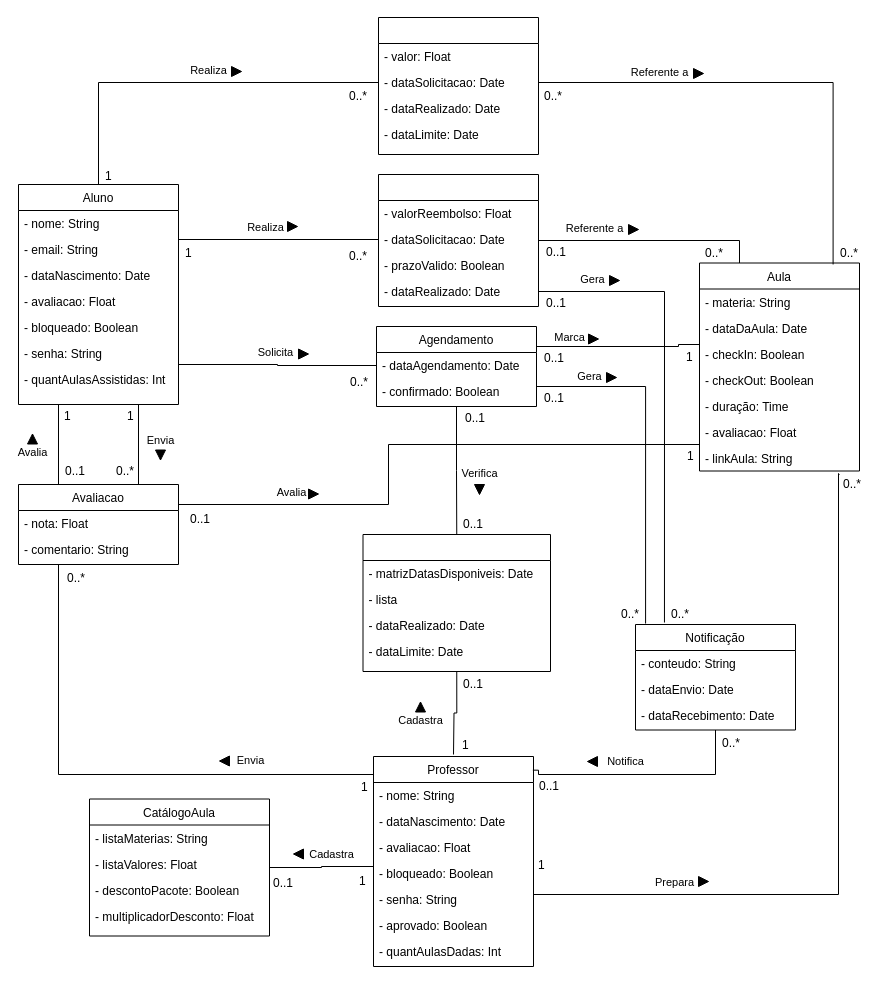
Some shapes in this 879 by 985 pixel diagram are drawn without their labels. Here are the shapes that lost their labels. From the top down, the box of each, then its label:
(378, 16, 538, 154): Pagamento
(378, 174, 538, 306): Cancelamento
(362, 534, 550, 672): Agenda
